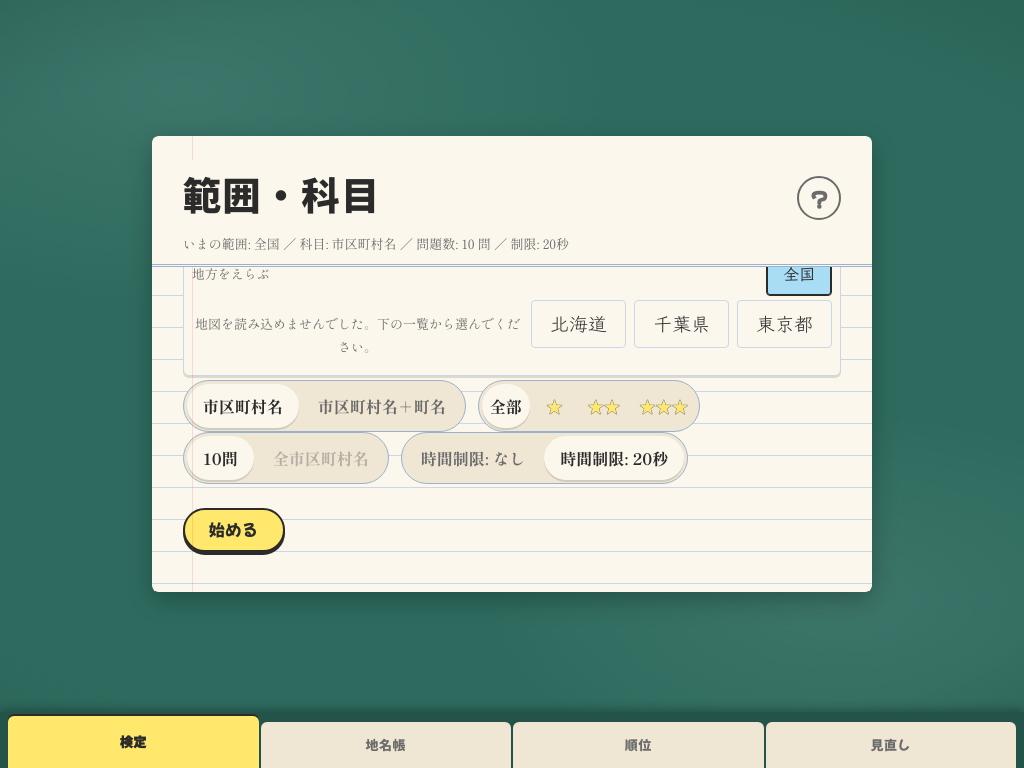
Scenario: 範囲・科目 › 町名 × 全町名は市区町村を選んでから始められ、setId は 6 桁 scope の -all になる
Click the button "千葉県". click: [682, 324]
box: [634,300,729,348]
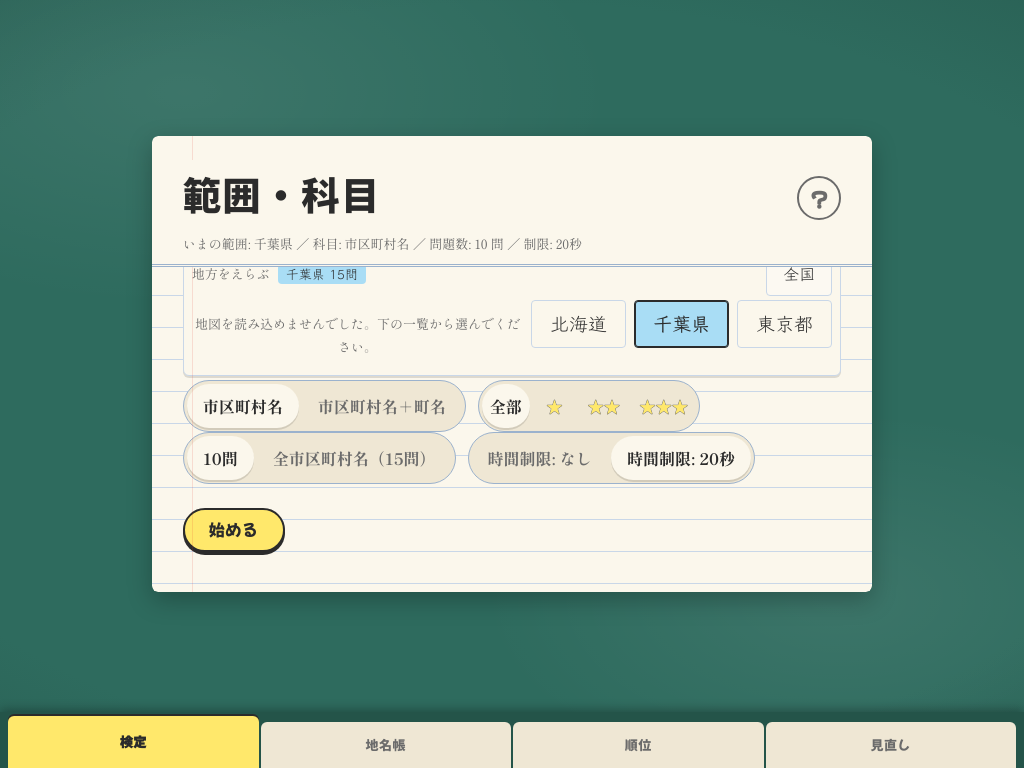
Click the button "市区町村名＋町名". click: [382, 406]
box: [302,384,462,428]
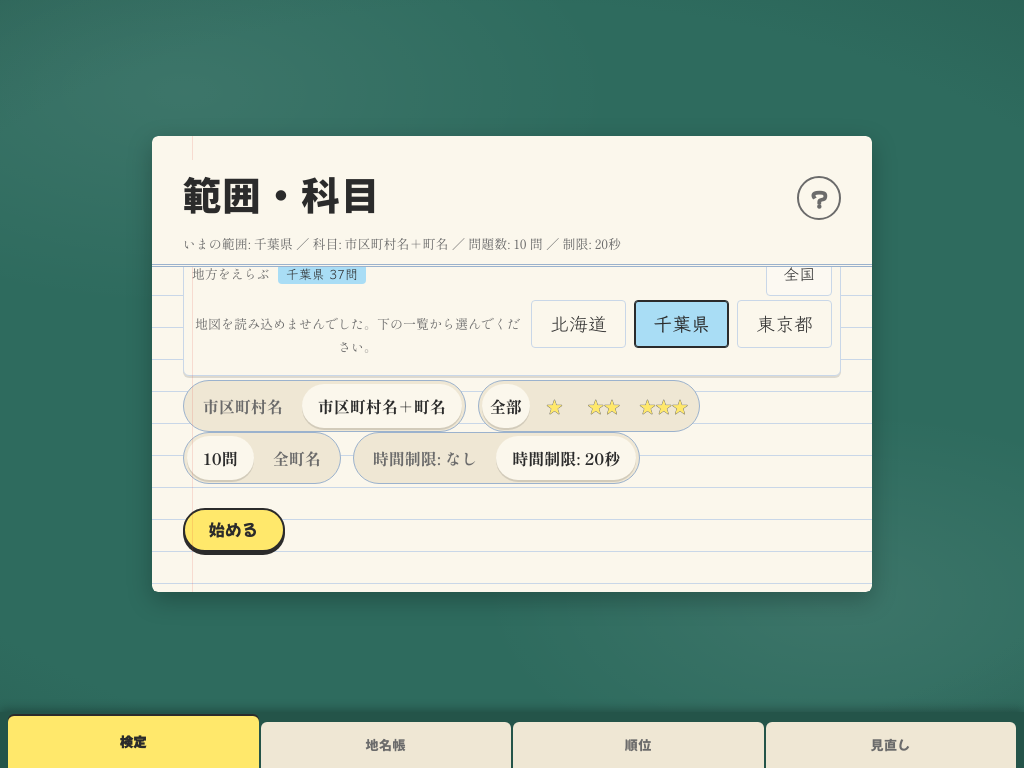
Click the button with aria-label "問題数: 全町名". click: [297, 458]
box: [257,436,337,480]
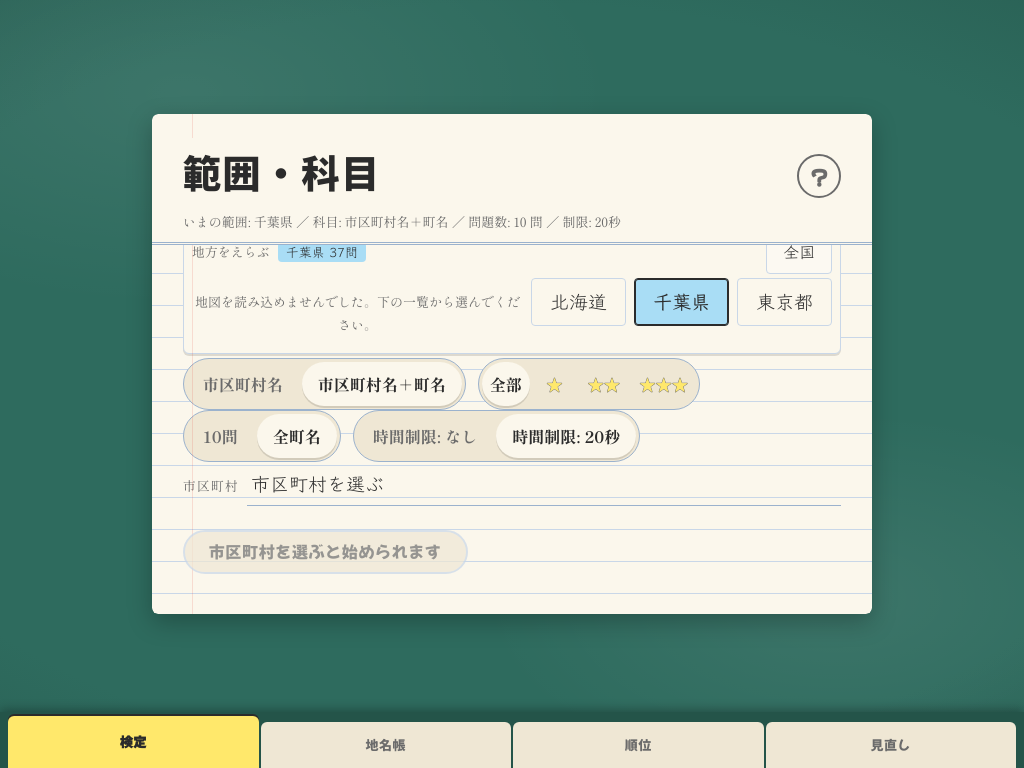
Expected: the button "市区町村を選ぶと始められます" is disabled, [183,530,468,574]
Select "千市1（30問）" in the dropdown labelled "市区町村". click: [544, 484]
box: [247,462,841,506]
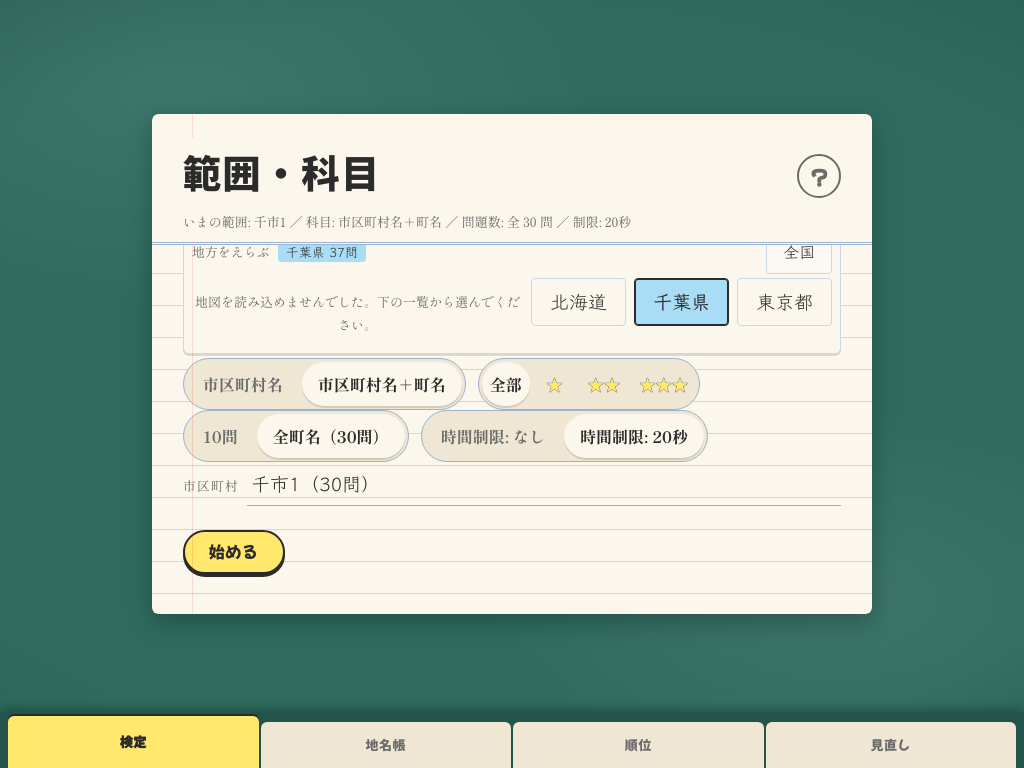
Expected: the text "いまの範囲: 千市1 ／ 科目: 市区町村名＋町名 ／ 問題数: 全 30 問 ／ 制限: 20秒" is shown, [183,212,631,231]
Click the button "始める". click: [234, 552]
box: [183,530,285,574]
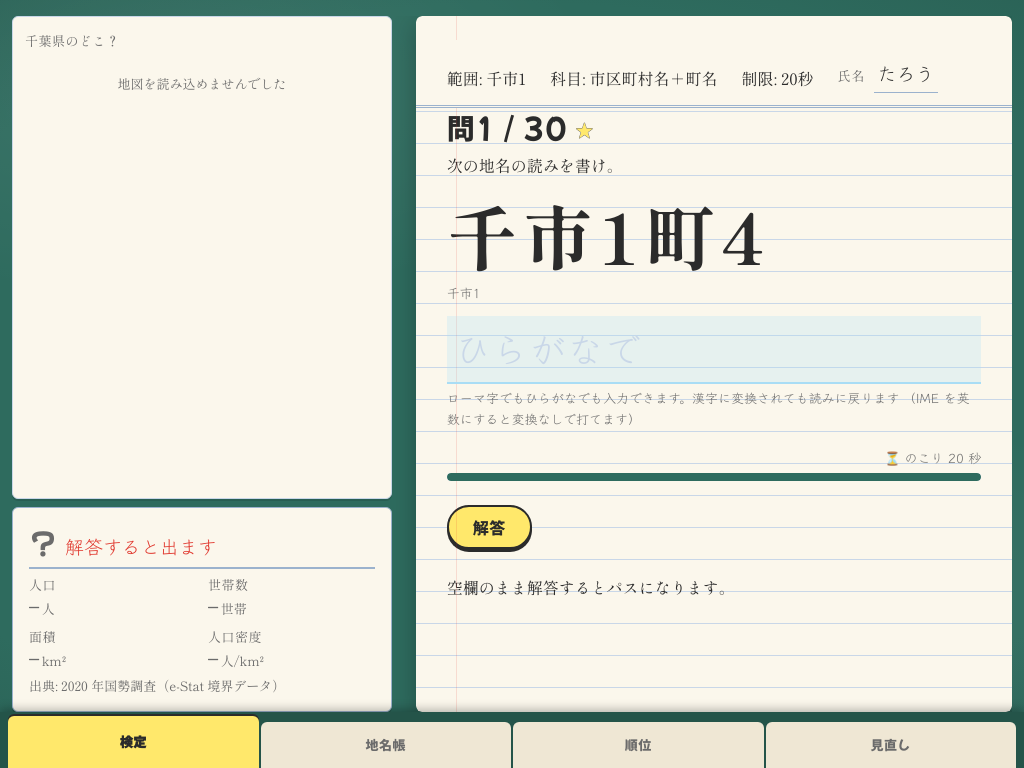
Expected: the text "問1 / 30" is shown, [447,107,568,147]
